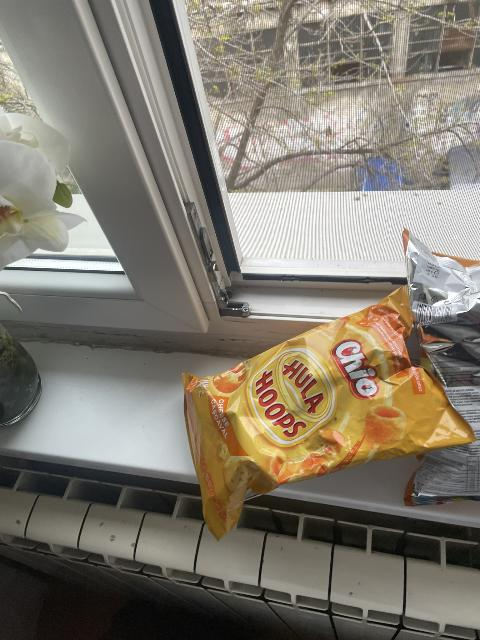Chio Cascaval 125g: (402, 227, 480, 510)
Chio Hula Hoops Cheese 70g: (181, 281, 478, 541)
